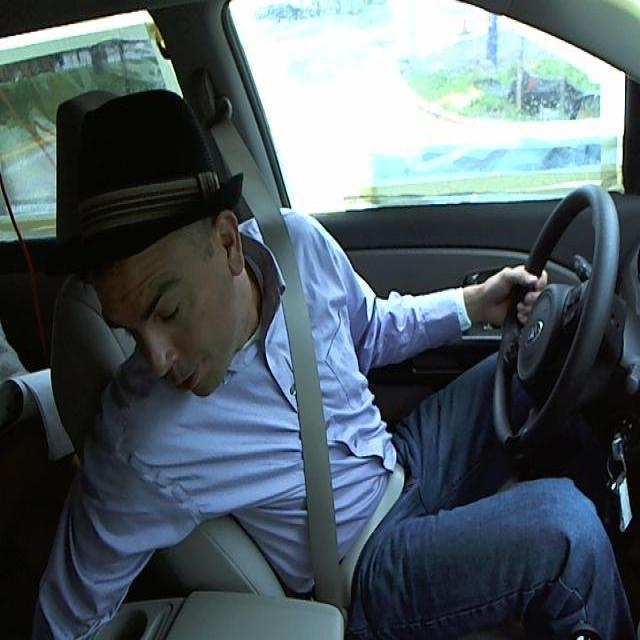seatbelt: (274, 287, 356, 633)
